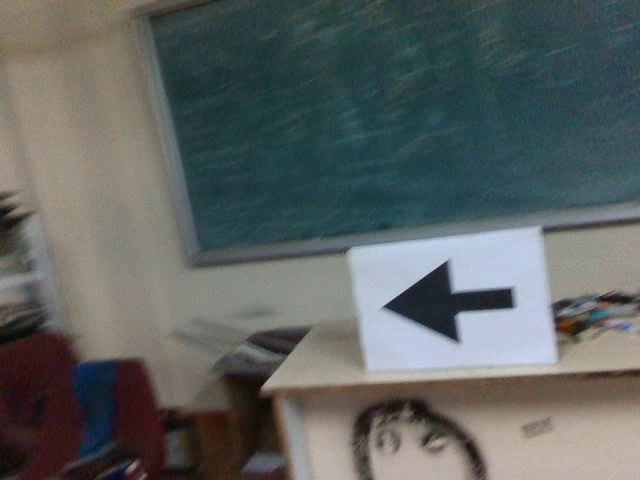Left: (378, 258, 518, 347)
